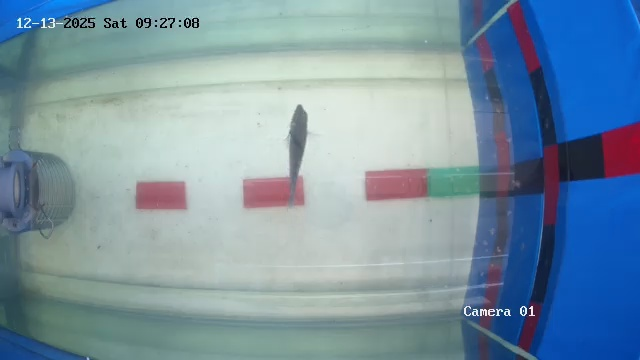fish: (276, 104, 313, 198)
